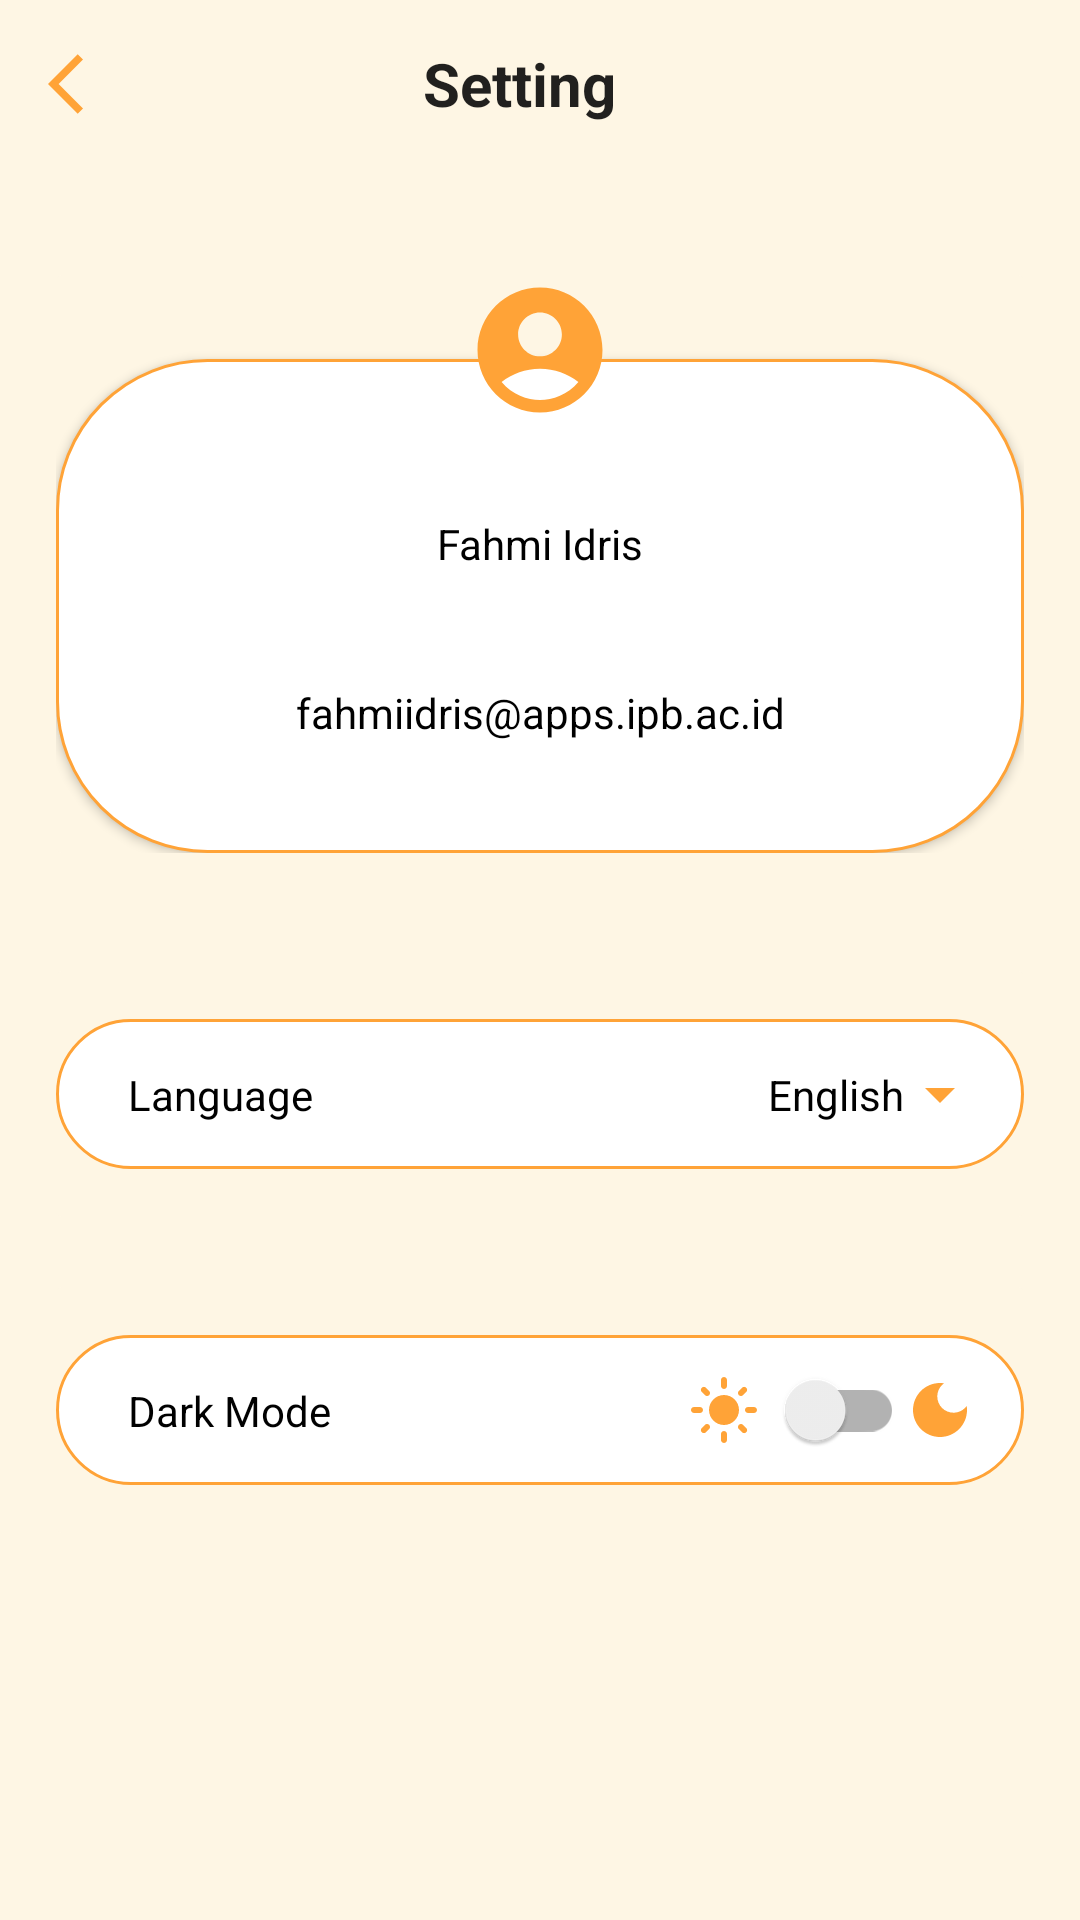

Icon click points for this 1080px×1920px phone screenshot, format [x,y]:
account circle: [540,350]
Dark Mode: [940,1410]
Light Mode: [724,1410]
select: [940,1095]
